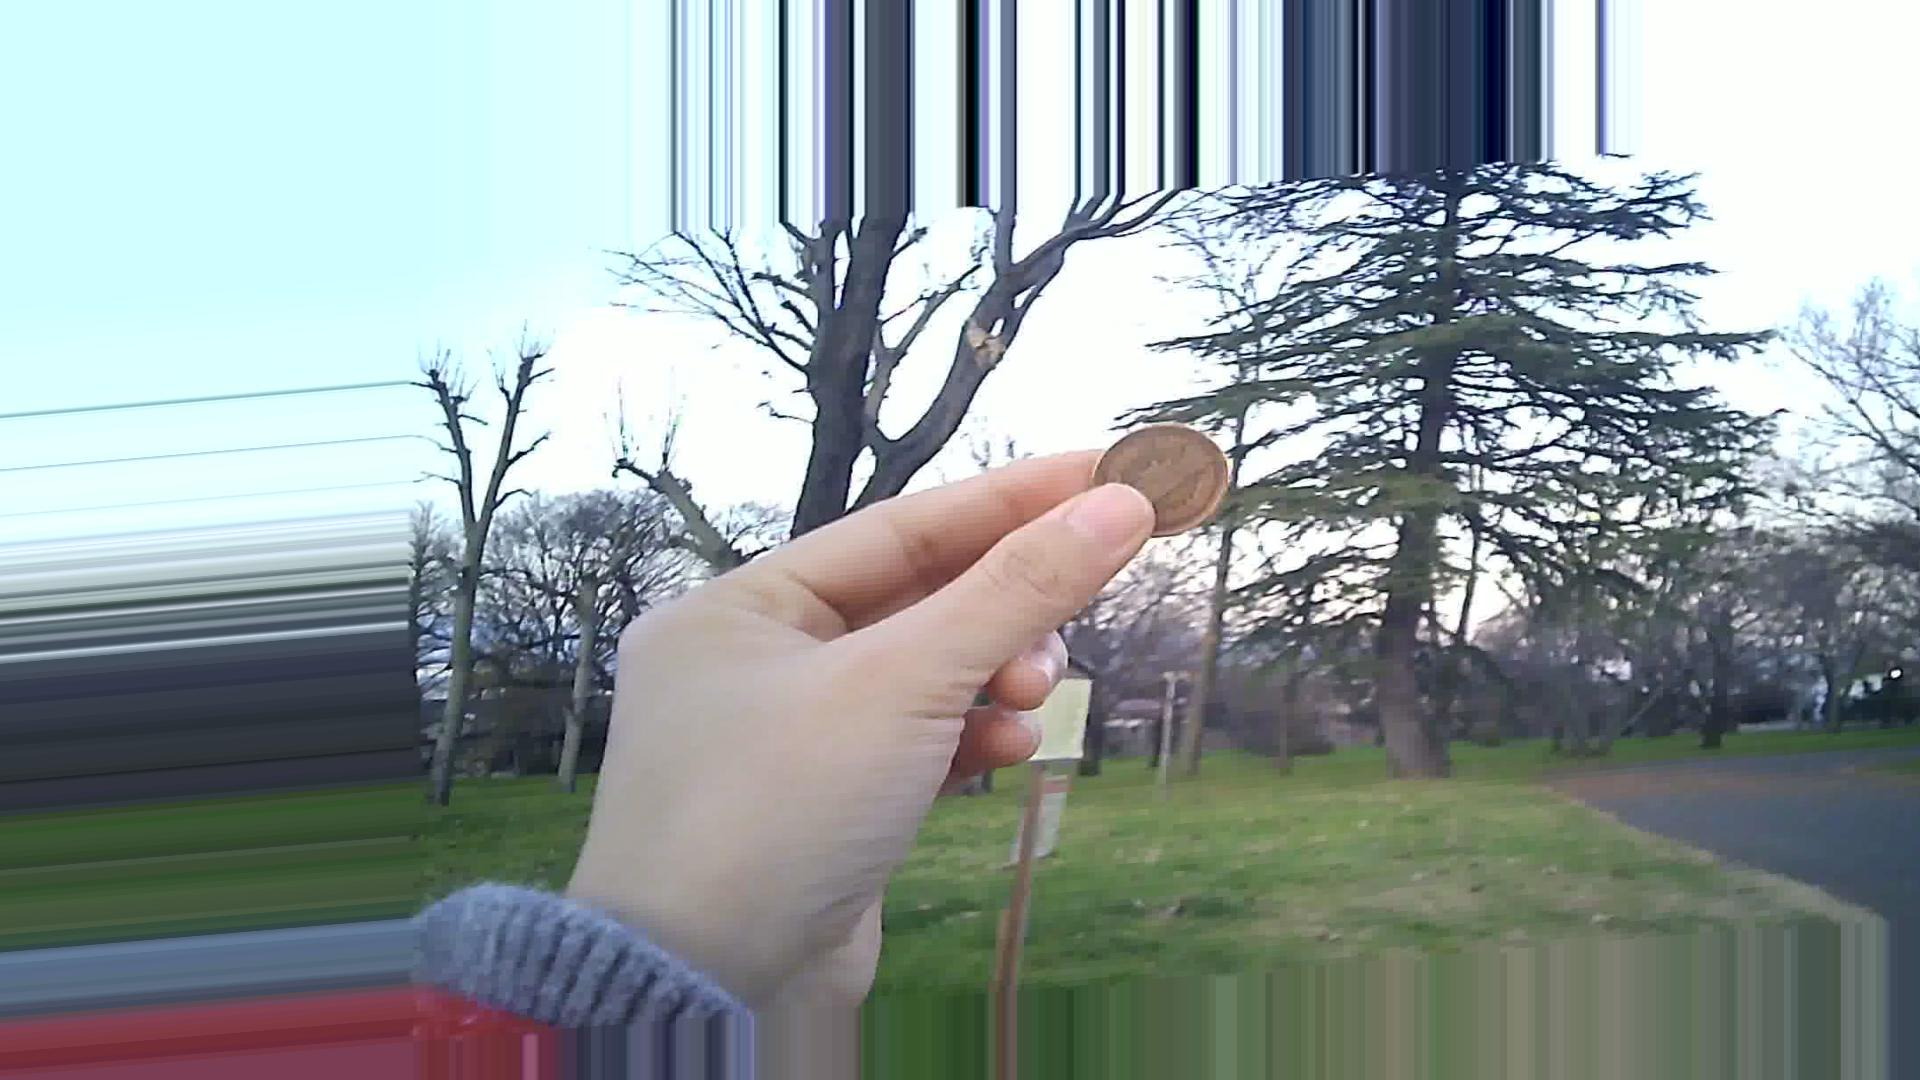10 Yen: (1080, 411, 1233, 546)
